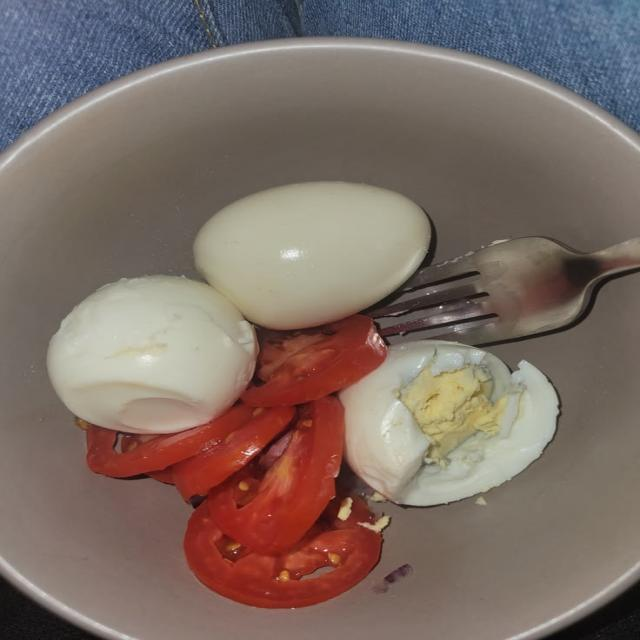egg boiled: (340, 341, 558, 505), (194, 182, 431, 329), (47, 276, 257, 433)
sliced tomatoe: (184, 498, 380, 607), (210, 396, 343, 555), (242, 315, 386, 406), (86, 404, 254, 478), (172, 405, 294, 500)
